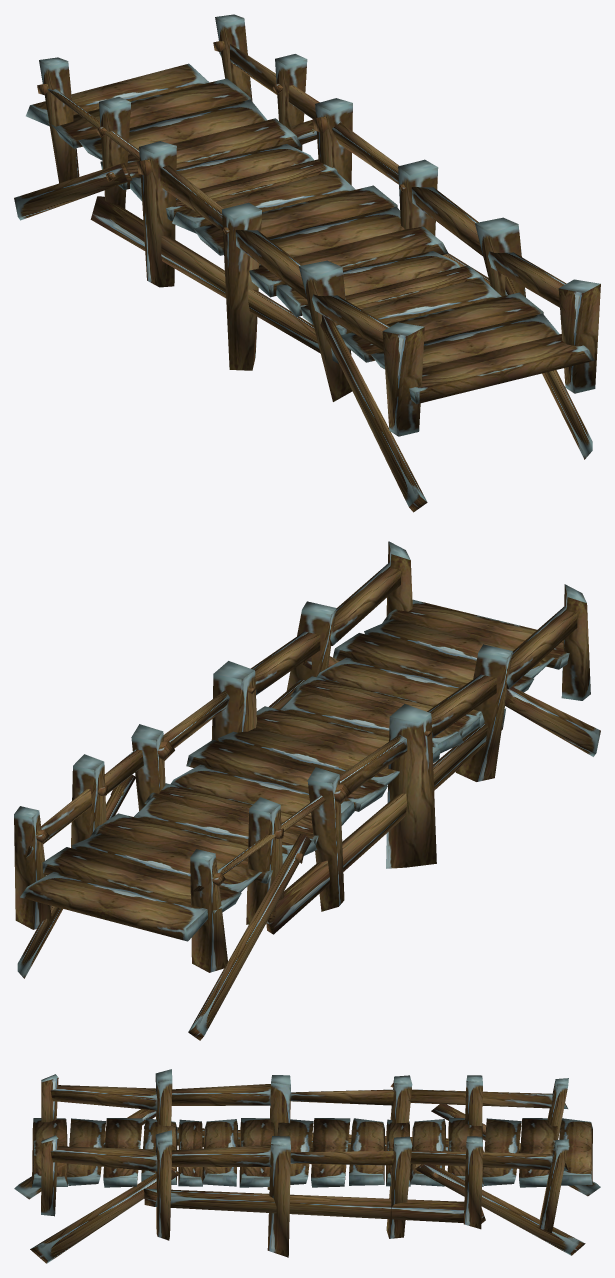
File: Qiao.fbx
The picture shows the model from 3 angles, top to bottom: view 1: azimuth 30°, elevation 25°; view 2: azimuth 150°, elevation 25°; view 3: azimuth 270°, elevation 25°; orthographic projection. The views are drawn at different scales.
Parts seen in each view (by area): view 1: Qiao; view 2: Qiao; view 3: Qiao.
Boxes of the visible parts, left/top/right/bottom form: Qiao: left=14, top=14, right=600, bottom=512; Qiao: left=14, top=541, right=600, bottom=1040; Qiao: left=14, top=1069, right=600, bottom=1263.
Size of the model in its own units: 316 by 237 by 984.
